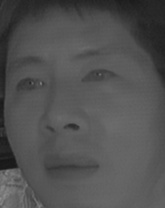eye: (80, 67, 122, 87), (13, 75, 48, 96)
mouth: (41, 145, 100, 186)
